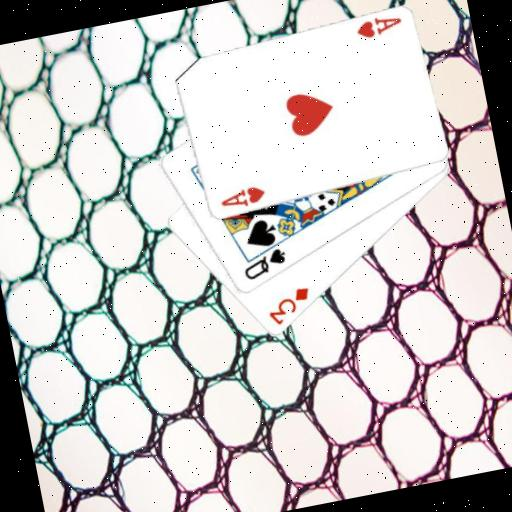3D: (262, 284, 317, 330)
AH: (351, 10, 405, 43), (216, 182, 268, 213)
QS: (238, 244, 291, 283)
